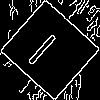I: (25, 24, 65, 67)
